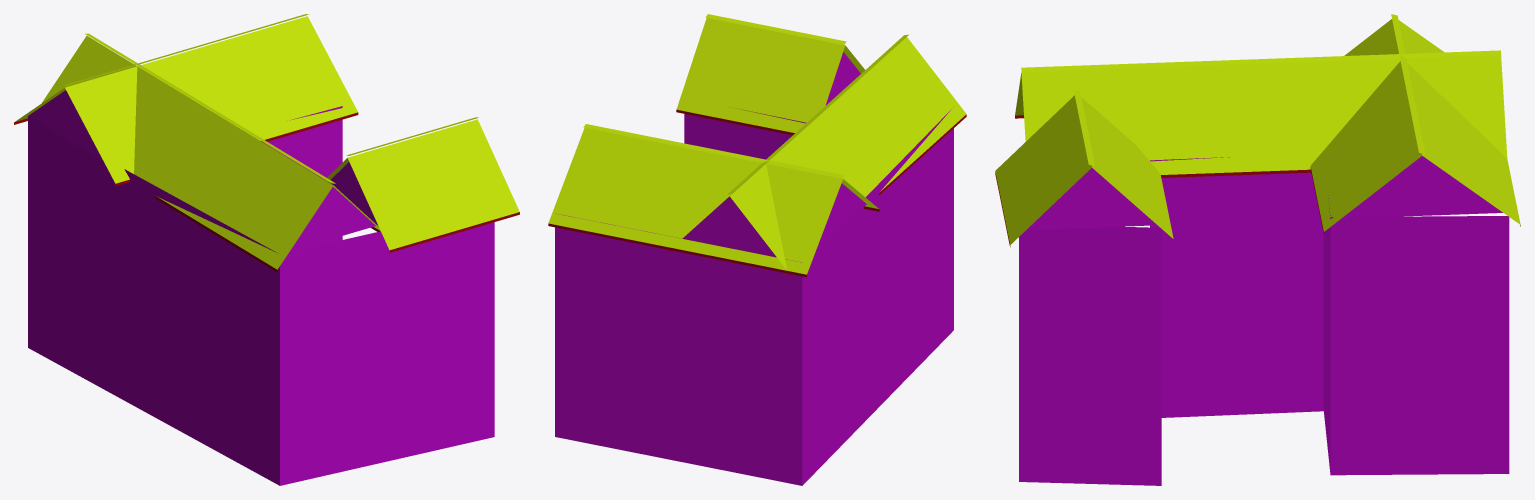
File: bgj_301.glb
3 views of the same model, side by side, from view 1: azimuth 30°, elevation 25°; view 2: azimuth 150°, elevation 25°; view 3: azimuth 270°, elevation 25° (orthographic). The views are drawn at different scales.
Visible parts, largest first — view 1: bgj_301; view 2: bgj_301; view 3: bgj_301.
Part boxes in pixels (box(x1,y1,x2,y2)): bgj_301: box(14, 14, 519, 485); bgj_301: box(548, 14, 966, 485); bgj_301: box(995, 14, 1520, 485).
Size of the model in its own units: 13.53 by 13.08 by 19.11.
